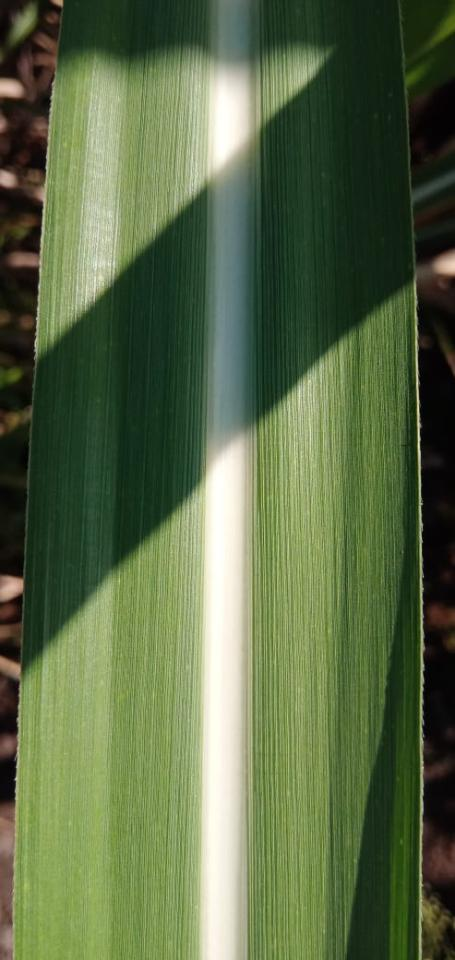Healthy: (15, 0, 420, 959)
